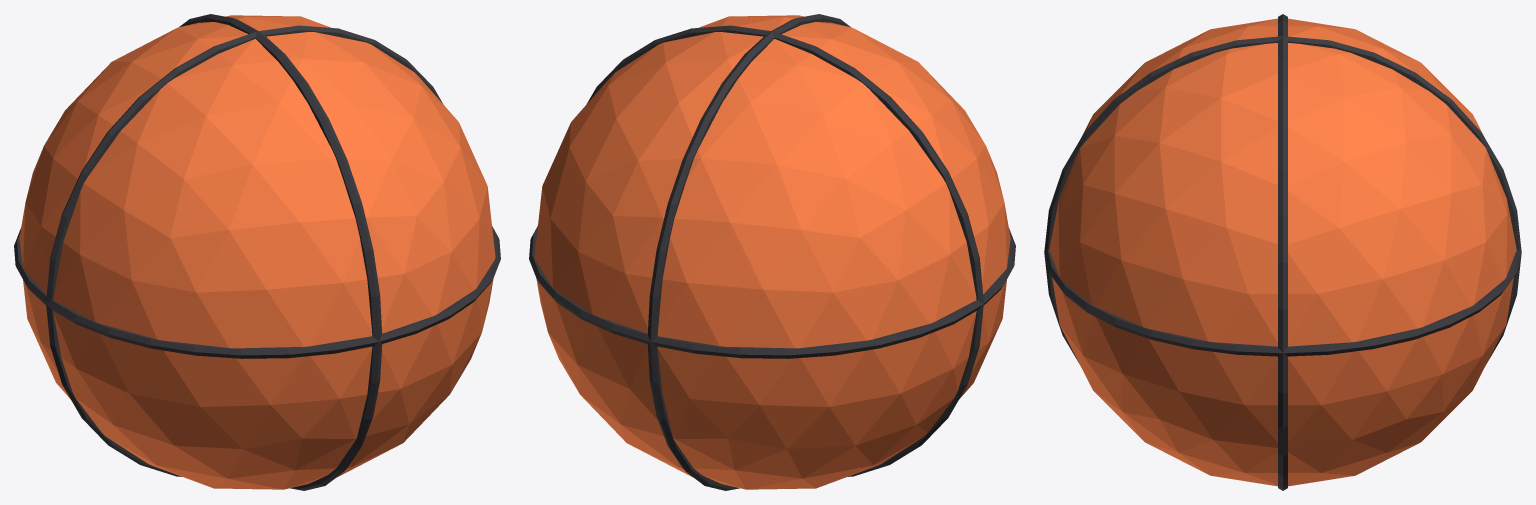
The model's file is basketball.glb.
3 renders of one model, left to right at view 1: azimuth 30°, elevation 25°; view 2: azimuth 150°, elevation 25°; view 3: azimuth 270°, elevation 25°, orthographic. The views are drawn at different scales.
Parts seen in each view (by area): view 1: basketball_Mesh; view 2: basketball_Mesh; view 3: basketball_Mesh.
Boxes of the visible parts, x1,y1,x2,y2 form: basketball_Mesh: (14, 14, 500, 490); basketball_Mesh: (529, 14, 1015, 490); basketball_Mesh: (1044, 14, 1521, 490).
Size of the model in its own units: 0.244 by 0.244 by 0.244.
